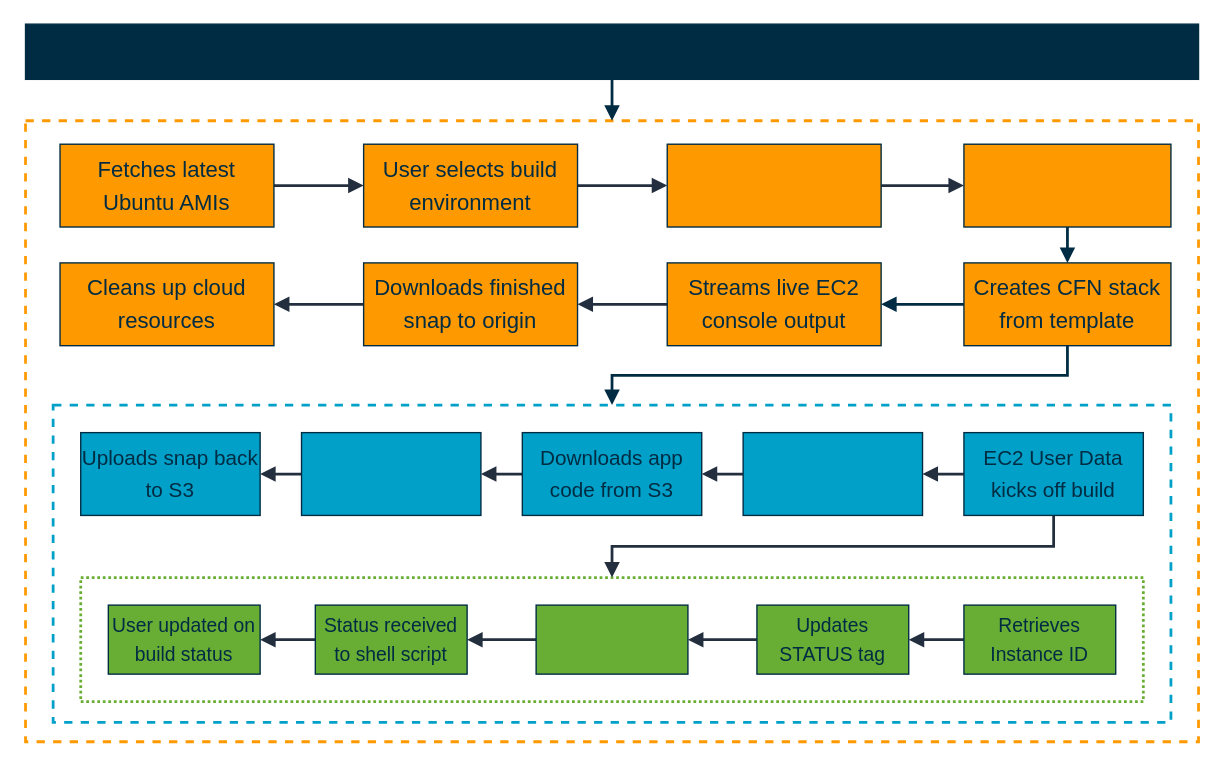
The diagram is 1223 pixels wide and 767 high, and some of its shapes have lost their labels. The shapes that lost their labels are listed below. From the top down, each one's box as (x1, y1, x2, y2) in pixels, then its label:
(24, 23, 1199, 79): ./sxc.sh --source <path_to_application_directory> --arch <target_architecture>
(666, 143, 881, 227): Provisions private S3 bucket
(963, 143, 1171, 227): Uploads app source code
(300, 431, 481, 515): Builds snap for target machine
(742, 431, 923, 515): Installs relevant snapcraft tools
(535, 604, 688, 674): Tag polled by shell script
